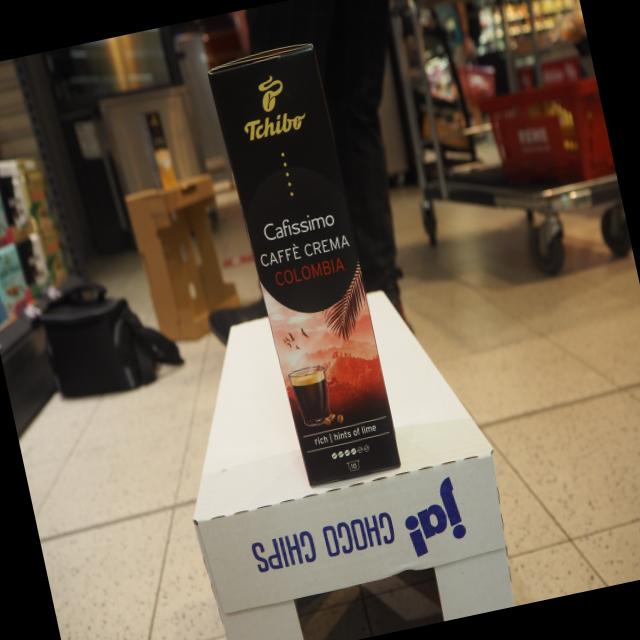Simo CC Colombia: (203, 39, 404, 492)
